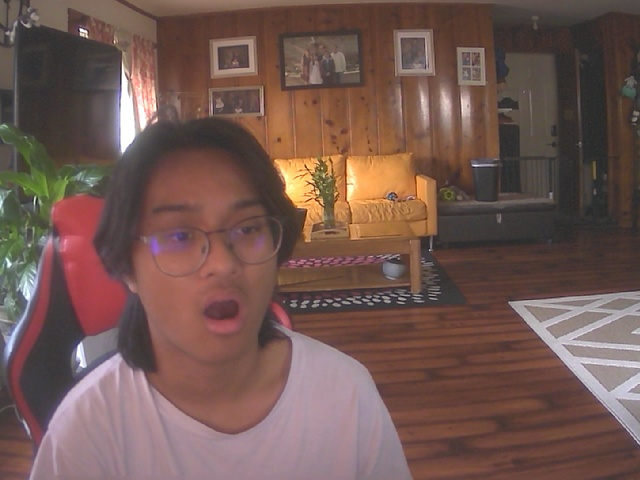fear: (120, 122, 289, 367)
